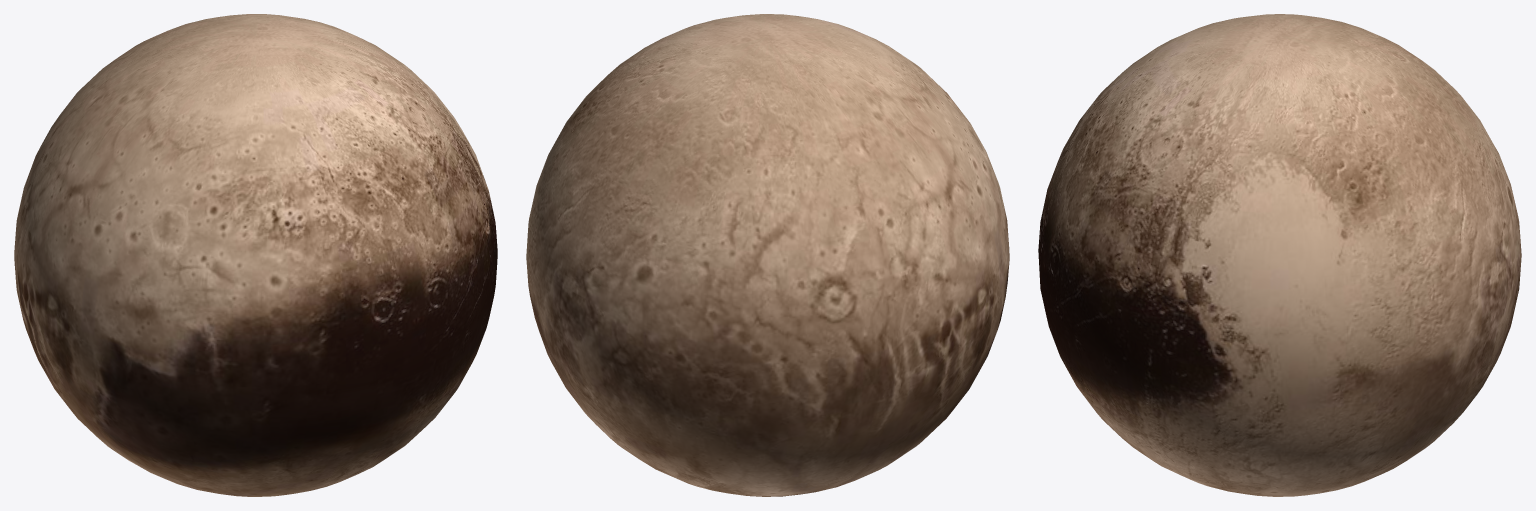
The model's file is pluto.glb.
3 views of the same model, side by side, from view 1: azimuth 30°, elevation 25°; view 2: azimuth 150°, elevation 25°; view 3: azimuth 270°, elevation 25° (orthographic).
Size of the model in its own units: 200 by 200 by 200.
1 material, 1 textured.
